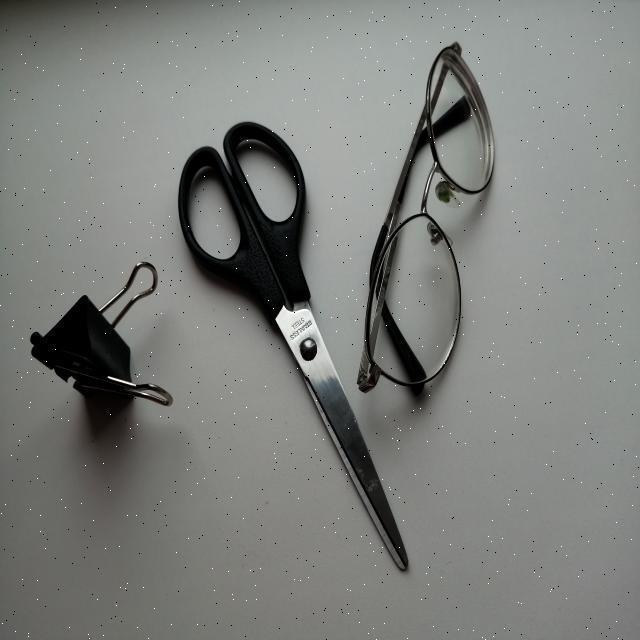scissors: (156, 69, 422, 595)
